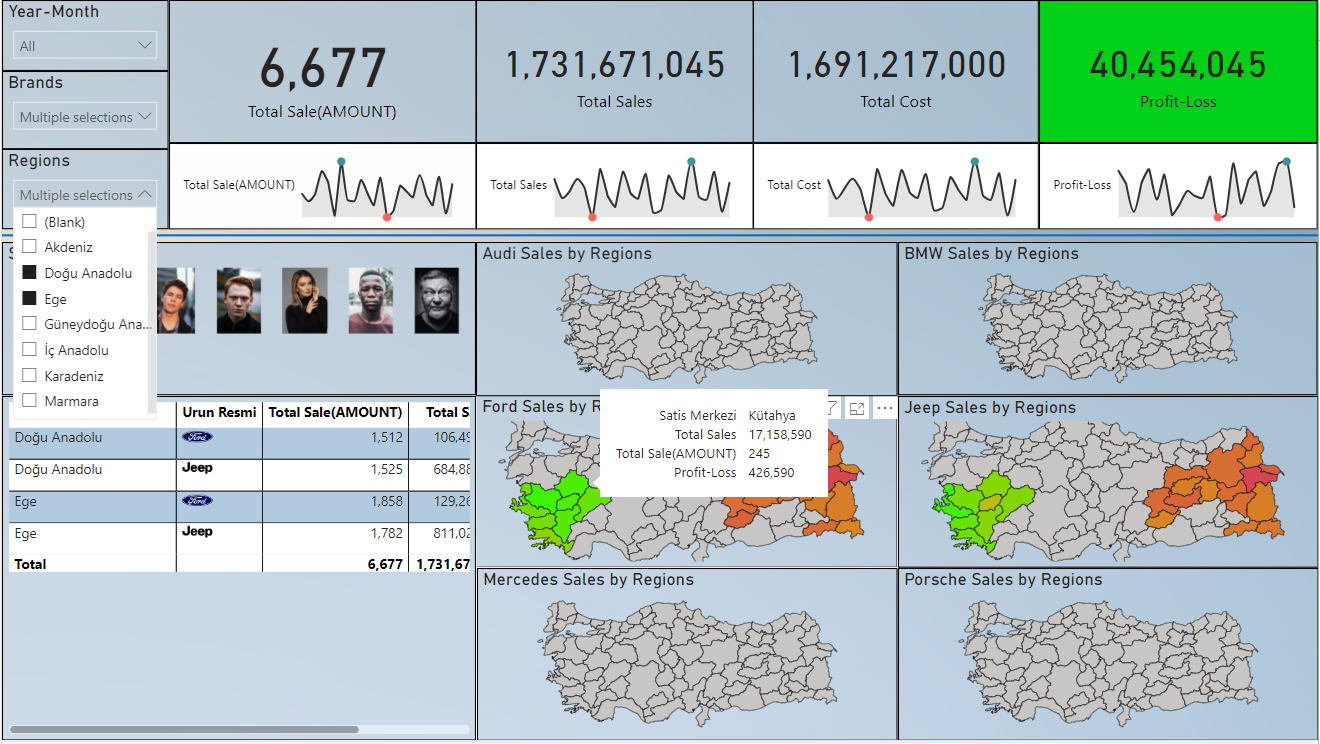

Layout of this report page (visuals, bound fields, positions):
{"tool":"powerbi","page":{"name":" Sales by Brands","canvas":[1280,720],"ordinal":1},"visuals":[{"type":"slicer","title":"Year-Month","fields":{"Values":["Satis Verileri.Yil-Ay"]},"box":[0,0,162.4,69.4],"z":0},{"type":"slicer","title":"Brands","fields":{"Values":["Urunler.Urun Adi"]},"box":[0,69.4,162.4,75.5],"z":1000},{"type":"card","fields":{"Values":["Measurements.Total Sale(AMOUNT)"]},"box":[162.4,0,298.5,138.7],"z":2000},{"type":"card","fields":{"Values":["Measurements.Total Sales"]},"box":[461,0,269.6,138.7],"z":3000},{"type":"card","fields":{"Values":["Measurements.Total Cost"]},"box":[730.5,0,278.3,138.7],"z":4000},{"type":"card","fields":{"Values":["Measurements.Profit-Loss"]},"box":[1008.9,0,271.3,138.7],"z":5000},{"type":"PBI_CV_25997FEB_F466_44FA_B562_AC4063283C4C","fields":{"axis":["Satis Verileri.Yil-Ay"],"measure":["Measurements.Total Sale(AMOUNT)"]},"box":[162.4,138.7,298.5,84.3],"z":6000},{"type":"PBI_CV_25997FEB_F466_44FA_B562_AC4063283C4C","fields":{"axis":["Satis Verileri.Yil-Ay"],"measure":["Measurements.Total Sales"]},"box":[461,138.7,269.6,84.3],"z":7000},{"type":"PBI_CV_25997FEB_F466_44FA_B562_AC4063283C4C","fields":{"axis":["Satis Verileri.Yil-Ay"],"measure":["Measurements.Total Cost"]},"box":[730.5,138.7,278.3,84.3],"z":8000},{"type":"PBI_CV_25997FEB_F466_44FA_B562_AC4063283C4C","fields":{"axis":["Satis Verileri.Yil-Ay"],"measure":["Measurements.Profit-Loss"]},"box":[1008.9,138.7,271.3,84.3],"z":9000},{"type":"shape","box":[0,223,1280.2,12.3],"z":10000},{"type":"tableEx","fields":{"Values":["Bolgeler.Bolge Adi","Urunler.Urun Resmi","Measurements.Total Sale(AMOUNT)","Measurements.Total Sales","Measurements.Total Cost"]},"box":[0,385.5,461,334.5],"z":11000},{"type":"slicer","title":"Regions","fields":{"Values":["Bolgeler.Bolge Adi"]},"box":[0,144.9,162.4,78.1],"z":12000},{"type":"ImageGrid_FC5183B9_926C_45E0_B5F7_0CE9EAF1DA9B","title":"Sellers","fields":{"ImageURLHQ":["Saticilar.Fotograf Linki"]},"box":[0,235.3,461,149.3],"z":13000},{"type":"shapeMap","title":"Jeep Sales by Regions","fields":{"Category":["Satis Verileri.Satis Merkezi"],"Value":["Measurements.Total Sales"]},"box":[871,385.5,409.2,166.8],"z":14000},{"type":"shapeMap","title":"Porsche Sales by Regions","fields":{"Category":["Satis Verileri.Satis Merkezi"],"Value":["Measurements.Total Sales"]},"box":[871,552.3,409.2,167.7],"z":15000},{"type":"shapeMap","title":"Ford Sales by Regions","fields":{"Category":["Satis Verileri.Satis Merkezi"],"Value":["Measurements.Total Sales"]},"box":[461,384.6,410,167.7],"z":16000},{"type":"shapeMap","title":"Mercedes Sales by Regions","fields":{"Category":["Satis Verileri.Satis Merkezi"],"Value":["Measurements.Total Sales"]},"box":[461.9,552.3,409.2,167.7],"z":17000},{"type":"shapeMap","title":"BMW Sales by Regions","fields":{"Category":["Satis Verileri.Satis Merkezi"],"Value":["Measurements.Total Sales"]},"box":[871,235.3,408.3,149.3],"z":18000},{"type":"shapeMap","title":"Audi Sales by Regions","fields":{"Category":["Satis Verileri.Satis Merkezi"],"Value":["Measurements.Total Sales"]},"box":[461,235.3,410,150.1],"z":19000}]}

Visuals, with their boxes in screenshot pixels (x1, y1, x2, y2), scaled from the page's 1280x720 canvas onto the 1320x744 screenshot:
"Year-Month" slicer: crop(0, 0, 167, 72)
"Brands" slicer: crop(0, 72, 167, 150)
card - Measurements.Total Sale(AMOUNT): crop(167, 0, 475, 143)
card - Measurements.Total Sales: crop(475, 0, 753, 143)
card - Measurements.Total Cost: crop(753, 0, 1040, 143)
card - Measurements.Profit-Loss: crop(1040, 0, 1319, 143)
PBI_CV_25997FEB_F466_44FA_B562_AC4063283C4C - Satis Verileri.Yil-Ay x Measurements.Total Sale(AMOUNT): crop(167, 143, 475, 230)
PBI_CV_25997FEB_F466_44FA_B562_AC4063283C4C - Satis Verileri.Yil-Ay x Measurements.Total Sales: crop(475, 143, 753, 230)
PBI_CV_25997FEB_F466_44FA_B562_AC4063283C4C - Satis Verileri.Yil-Ay x Measurements.Total Cost: crop(753, 143, 1040, 230)
PBI_CV_25997FEB_F466_44FA_B562_AC4063283C4C - Satis Verileri.Yil-Ay x Measurements.Profit-Loss: crop(1040, 143, 1319, 230)
shape: crop(0, 230, 1319, 243)
tableEx - Bolgeler.Bolge Adi x Urunler.Urun Resmi: crop(0, 398, 475, 743)
"Regions" slicer: crop(0, 150, 167, 230)
"Sellers" ImageGrid_FC5183B9_926C_45E0_B5F7_0CE9EAF1DA9B: crop(0, 243, 475, 397)
"Jeep Sales by Regions" shapeMap: crop(898, 398, 1319, 571)
"Porsche Sales by Regions" shapeMap: crop(898, 571, 1319, 743)
"Ford Sales by Regions" shapeMap: crop(475, 397, 898, 571)
"Mercedes Sales by Regions" shapeMap: crop(476, 571, 898, 743)
"BMW Sales by Regions" shapeMap: crop(898, 243, 1319, 397)
"Audi Sales by Regions" shapeMap: crop(475, 243, 898, 398)
